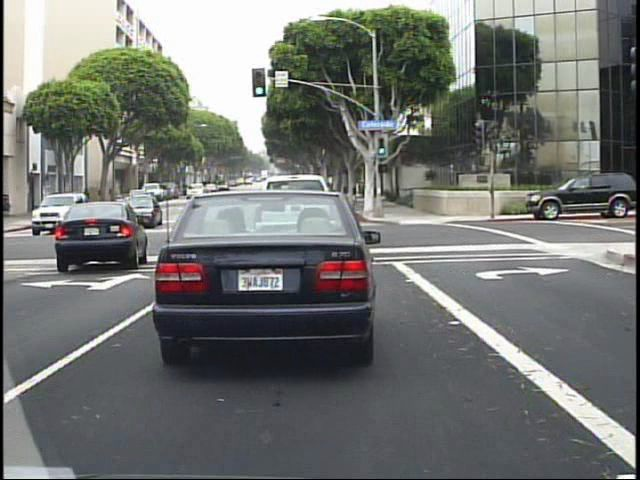person: (78, 185, 94, 219)
